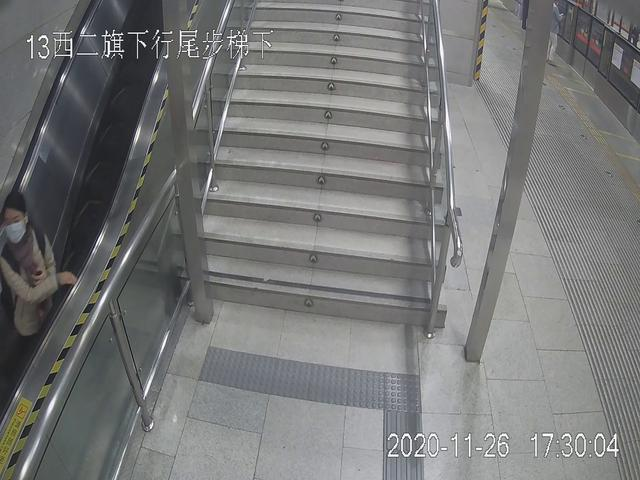person: (1, 184, 80, 367), (536, 1, 566, 70)
